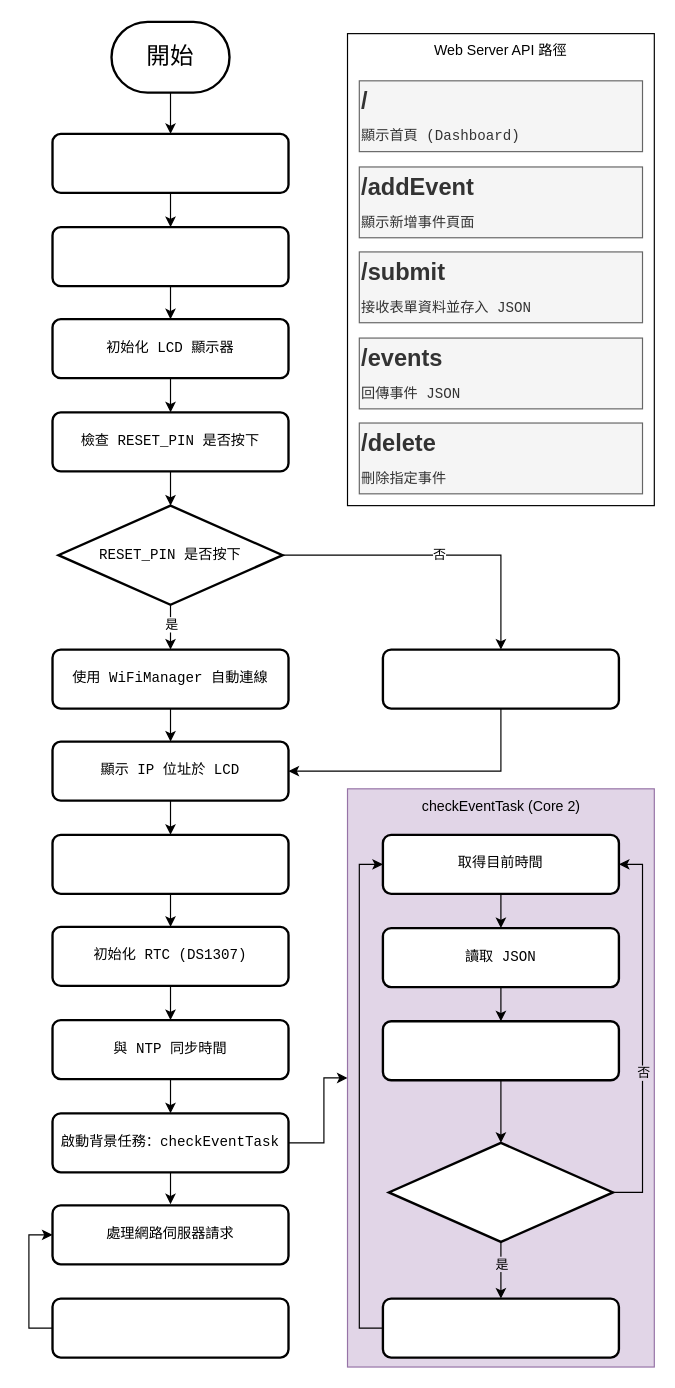
Image size: 675x1388. Some labels were removed from this diagram. The box of each missing label's shape, as (x1, y1, x2, y2) in pixels:
啟動序列埠: (51, 132, 289, 194)
啟動網路伺服器: (51, 833, 289, 894)
建立 AP 並進行連線: (381, 648, 620, 709)
按事件出藥: (381, 1297, 620, 1358)
是否 符合條件: (387, 1141, 614, 1243)
更新 LCD 顯示時間: (51, 1297, 289, 1358)
比對JSON事件與目前時間: (381, 1020, 620, 1081)
設定 RESET_PIN: (51, 225, 289, 287)
